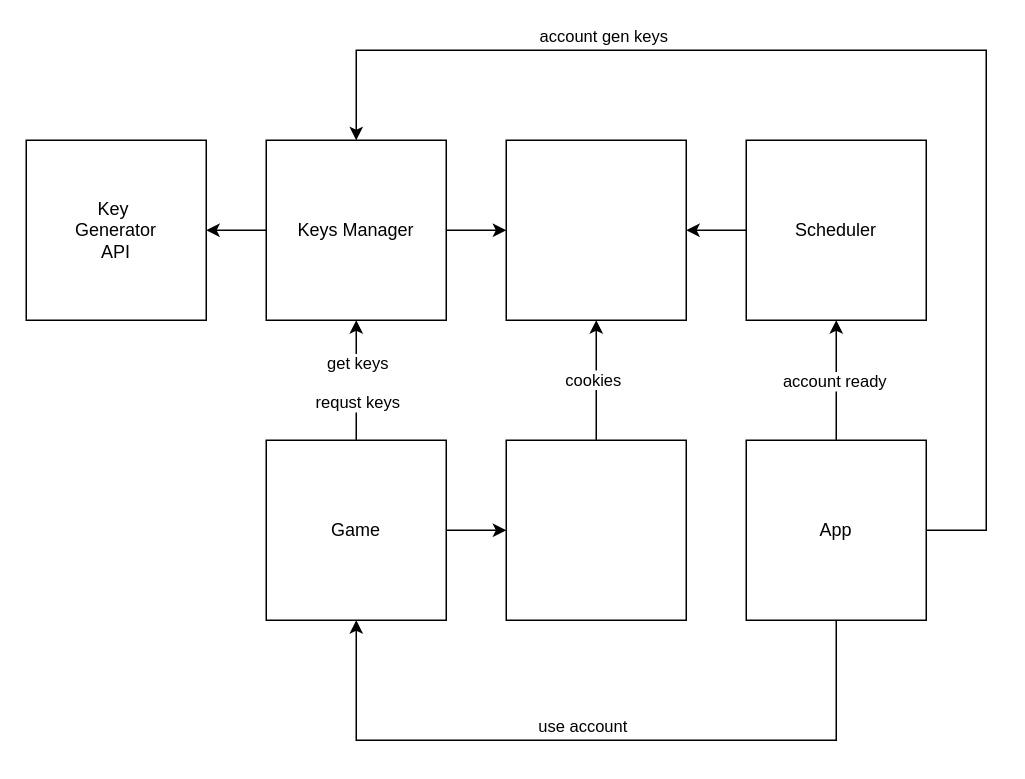
Image size: 1025x779. Some labels were removed from this diagram. Each missing label, with the centre of its shape:
DbManager: point (595, 229)
Game RequestManager: point (595, 529)
